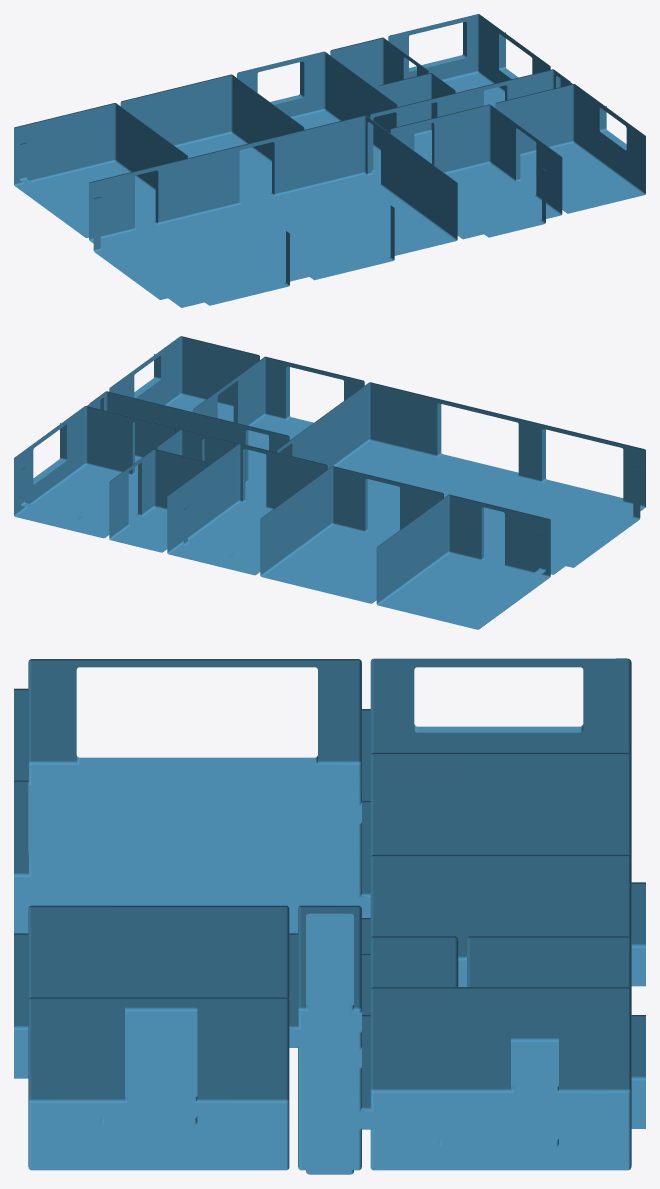
The model's file is shell.glb.
3 renders of one model, top to bottom at view 1: azimuth 30°, elevation 25°; view 2: azimuth 150°, elevation 25°; view 3: azimuth 270°, elevation 25°, orthographic. The views are drawn at different scales.
Visible parts, largest first — view 1: shell; view 2: shell; view 3: shell.
Boxes of the visible parts, box(x1,y1,x2,y2) form: shell: box(14, 14, 645, 307); shell: box(14, 336, 645, 629); shell: box(14, 658, 645, 1174).
Size of the model in its own units: 20.6 by 2.42 by 13.1.
